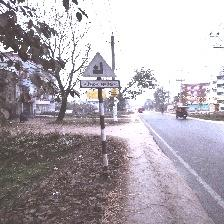Mosque in front: (80, 53, 118, 91)
